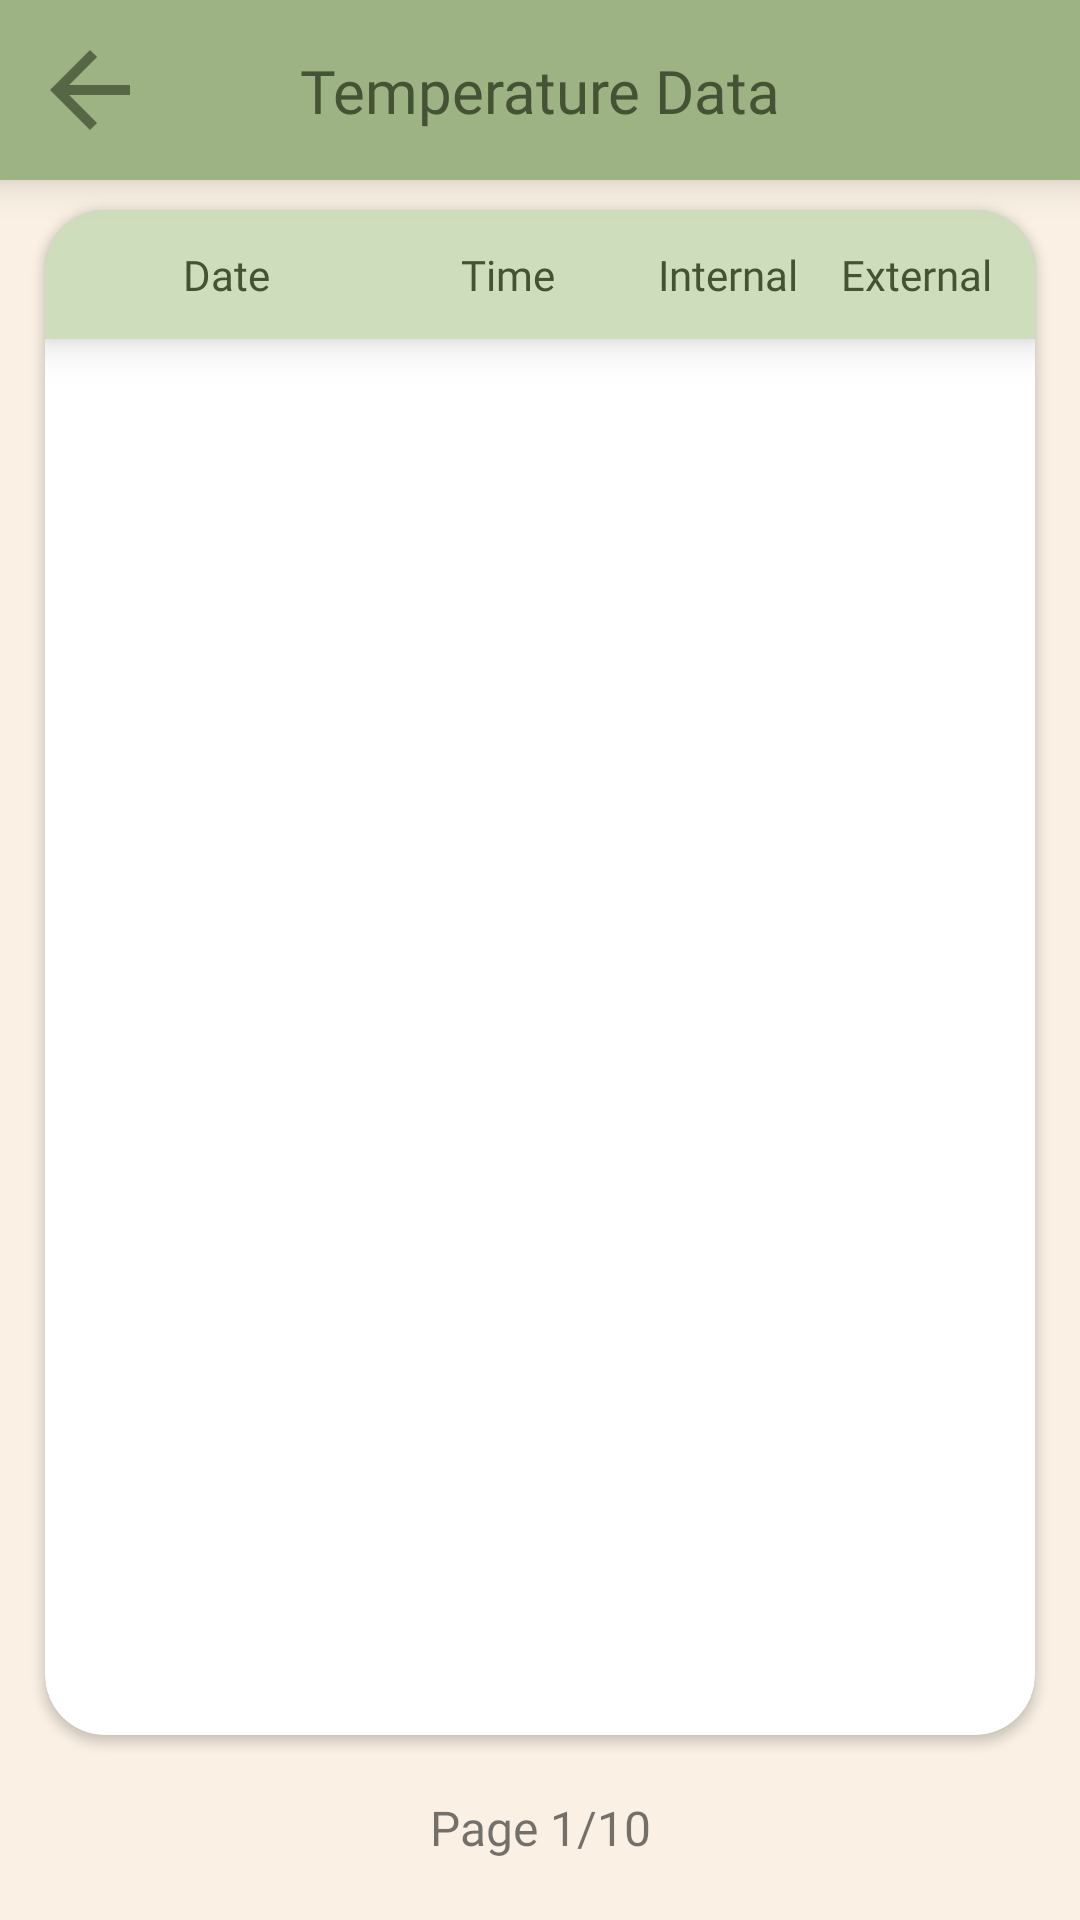

Icons on this 1080px x 1920px Android screen, each with its box as (x1, y1, x2, y2):
Back Button: (50, 50, 130, 130)
